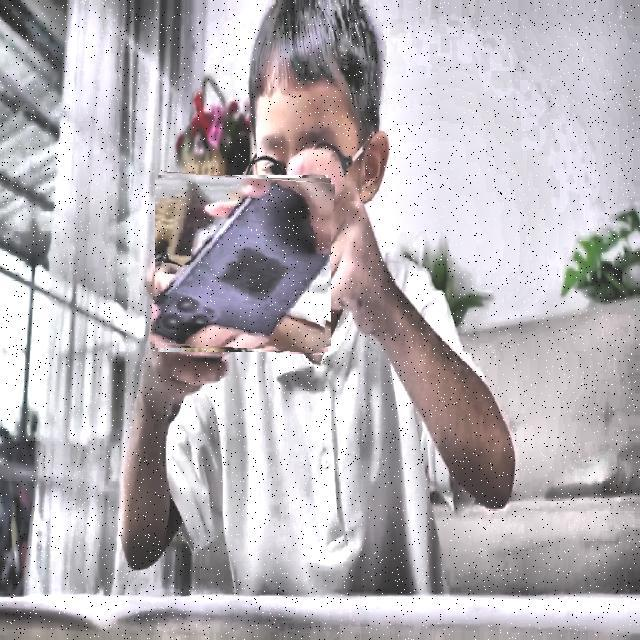Phone: (154, 174, 332, 353)
